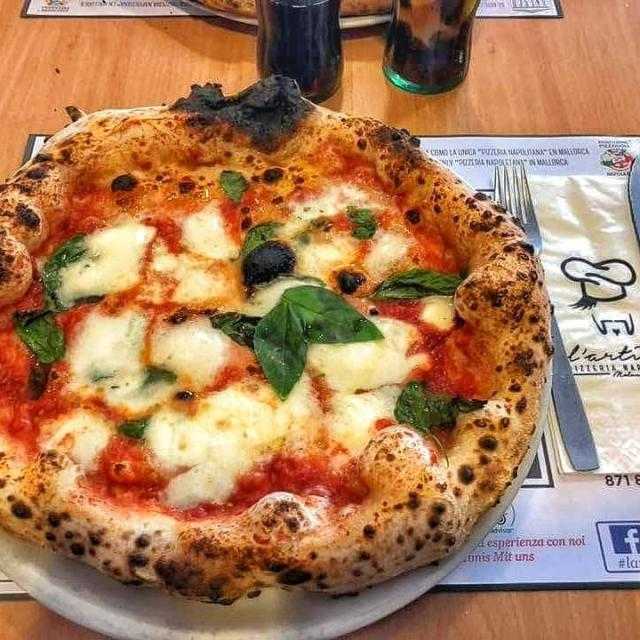basil: (277, 282, 388, 346), (254, 297, 310, 403), (395, 379, 481, 438), (42, 233, 97, 310), (361, 268, 464, 304), (10, 305, 68, 368), (234, 219, 312, 261), (210, 309, 263, 349), (217, 167, 250, 206), (347, 202, 377, 241), (138, 363, 178, 391), (116, 413, 148, 443)
pizza: (0, 72, 558, 608)
